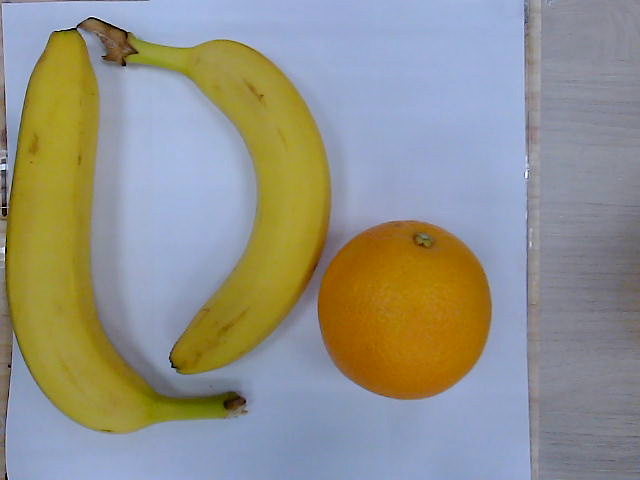fresh_banana: (84, 17, 330, 376), (4, 28, 174, 435)
fresh_orange: (317, 219, 495, 401)
